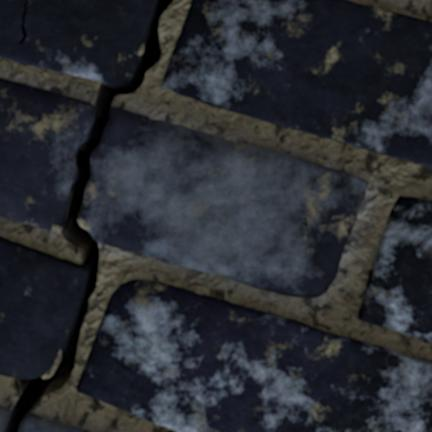brick: (78, 280, 431, 431), (162, 0, 431, 166), (0, 0, 154, 83), (0, 237, 87, 377), (359, 197, 431, 343)
broken_brick: (79, 105, 368, 298), (0, 77, 93, 234), (20, 413, 89, 431), (0, 404, 9, 431)
crack: (2, 0, 174, 431)
